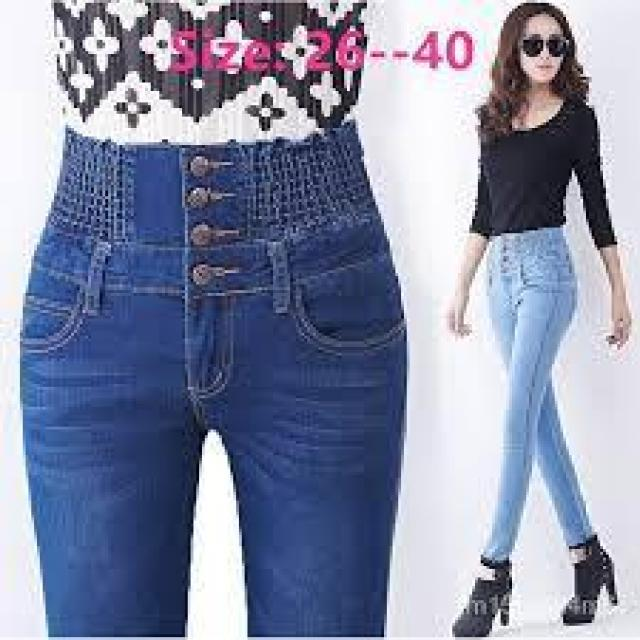Tshirt: (467, 95, 618, 252)
pants: (17, 136, 406, 640), (481, 236, 589, 558)
